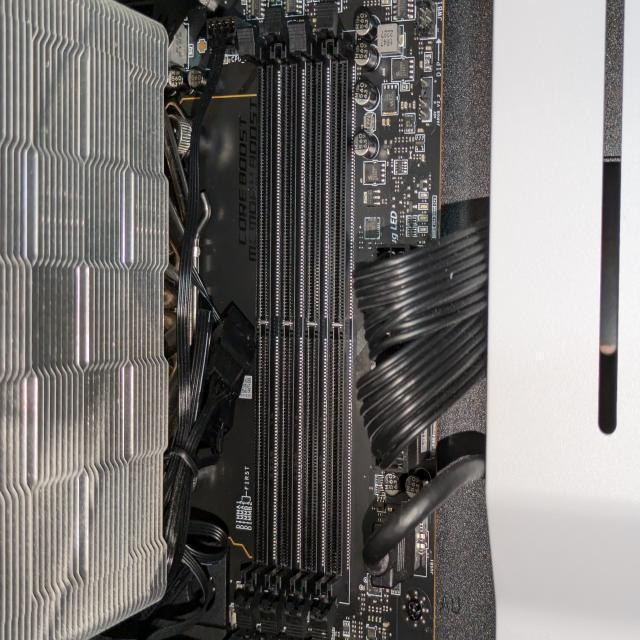CPU_Fan: (0, 0, 167, 639)
Mainboard: (170, 1, 446, 640)
